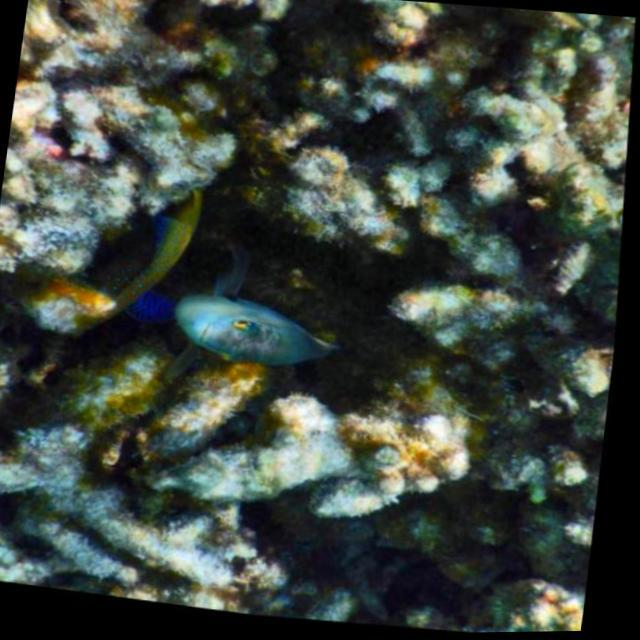Dead Coral: (188, 0, 635, 559), (0, 0, 299, 303), (0, 402, 283, 622), (472, 7, 640, 234)
